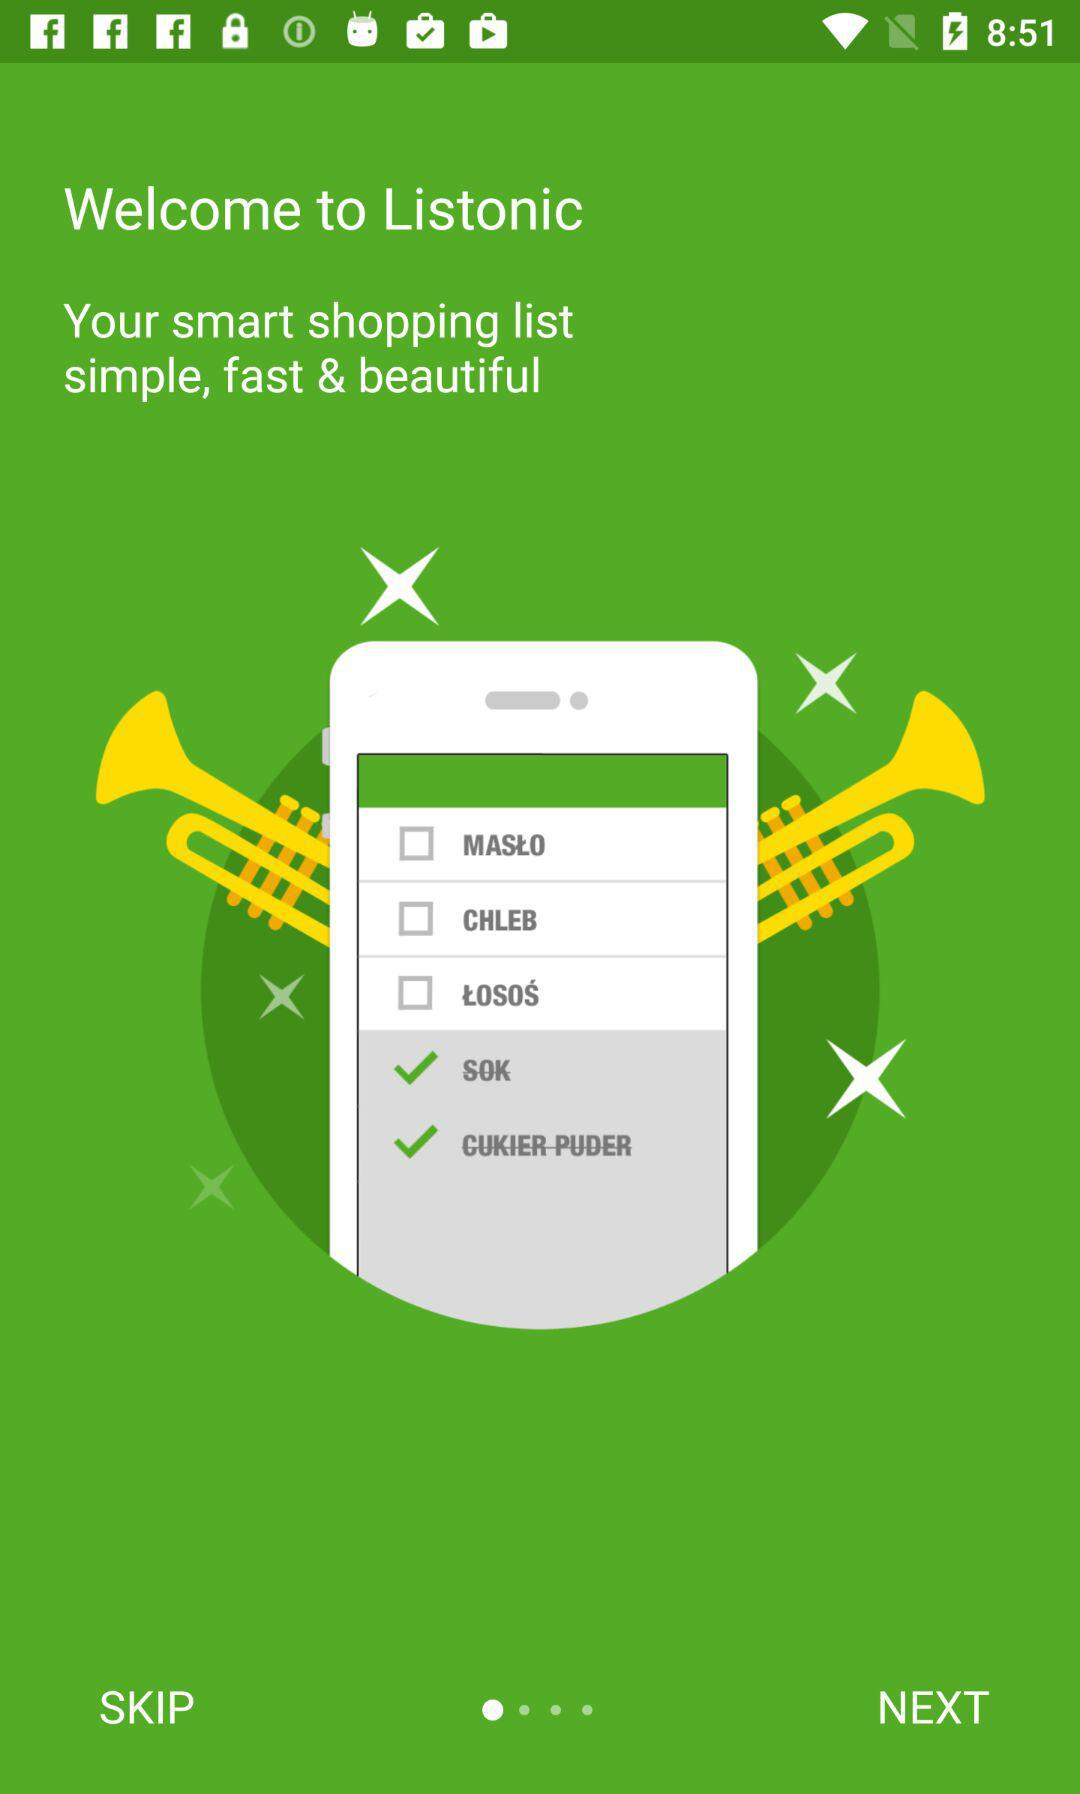Image: (95, 546, 986, 1331)
PageIndicator: (480, 1697, 594, 1724)
Text: (64, 301, 575, 405), (65, 186, 584, 233), (879, 1689, 990, 1726), (99, 1689, 196, 1726)
UpperTaskBar: (1, 1, 1080, 64)
